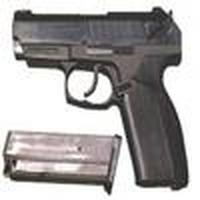gun: (10, 9, 187, 192)
